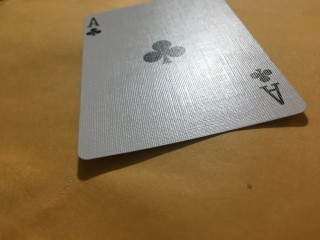AceOfClubs: (78, 1, 305, 159)
